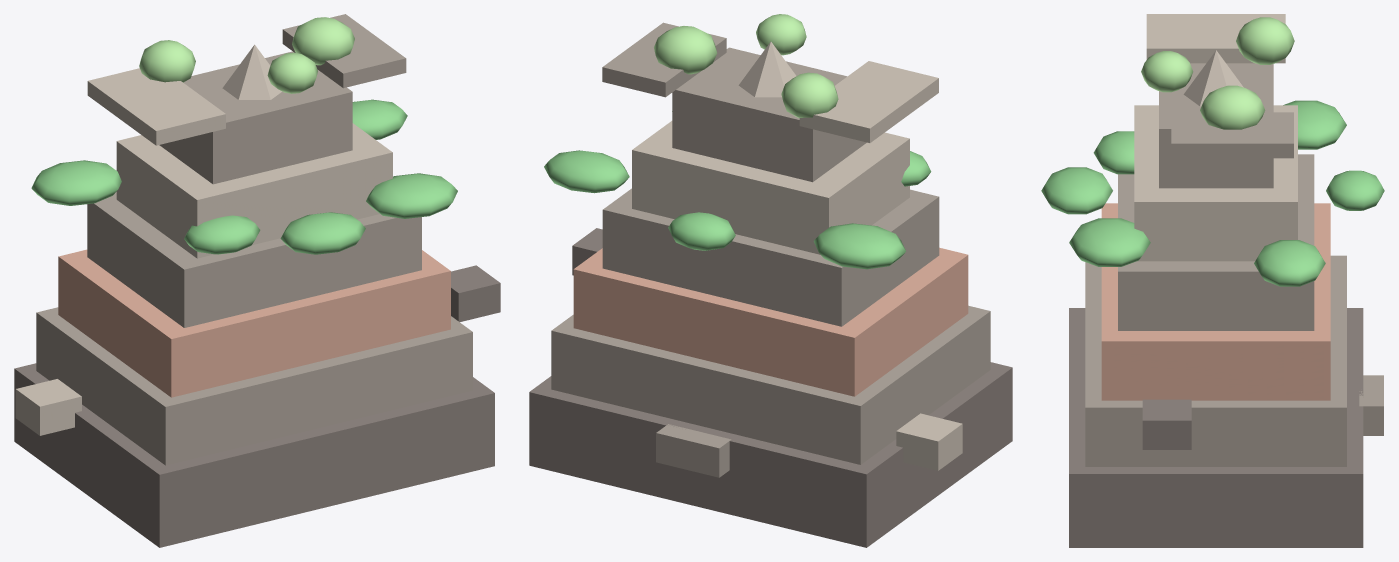
The model's file is cliff.glb.
3 renders of one model, left to right at view 1: azimuth 30°, elevation 25°; view 2: azimuth 150°, elevation 25°; view 3: azimuth 270°, elevation 25°, orthographic.
Parts seen in each view (by area): view 1: cliff_root; view 2: cliff_root; view 3: cliff_root.
Boxes of the visible parts, left/top/right/bottom form: cliff_root: left=14, top=14, right=500, bottom=547; cliff_root: left=529, top=14, right=1012, bottom=547; cliff_root: left=1041, top=14, right=1384, bottom=547.
Size of the model in its own units: 8 by 7.65 by 5.69.
